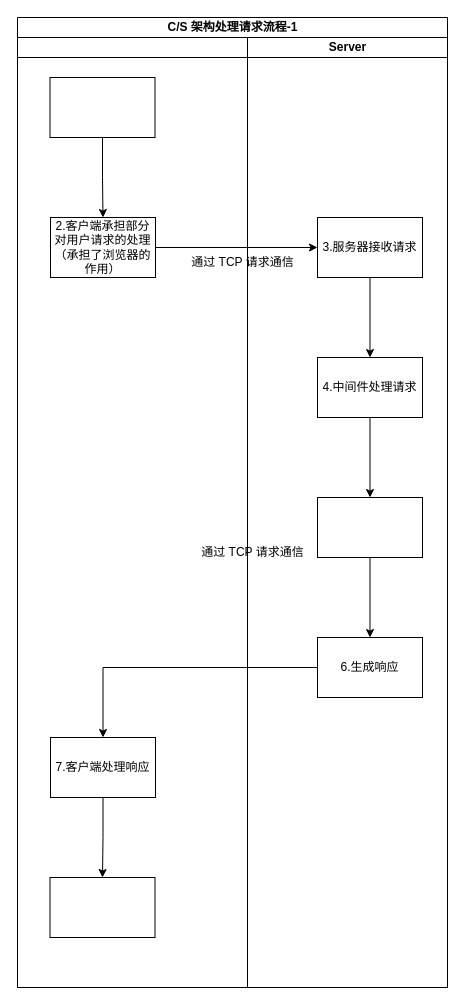
Image size: 465x1005. Some labels were removed from this diagram. Here are the shapes that lost their labels. From the top down, the box of each, then its label:
(49, 76, 155, 138): 1.用户在客户端发起请求
(16, 36, 248, 988): Client
(316, 496, 422, 558): 5.业务逻辑处理
(49, 876, 155, 938): 8.渲染界面
